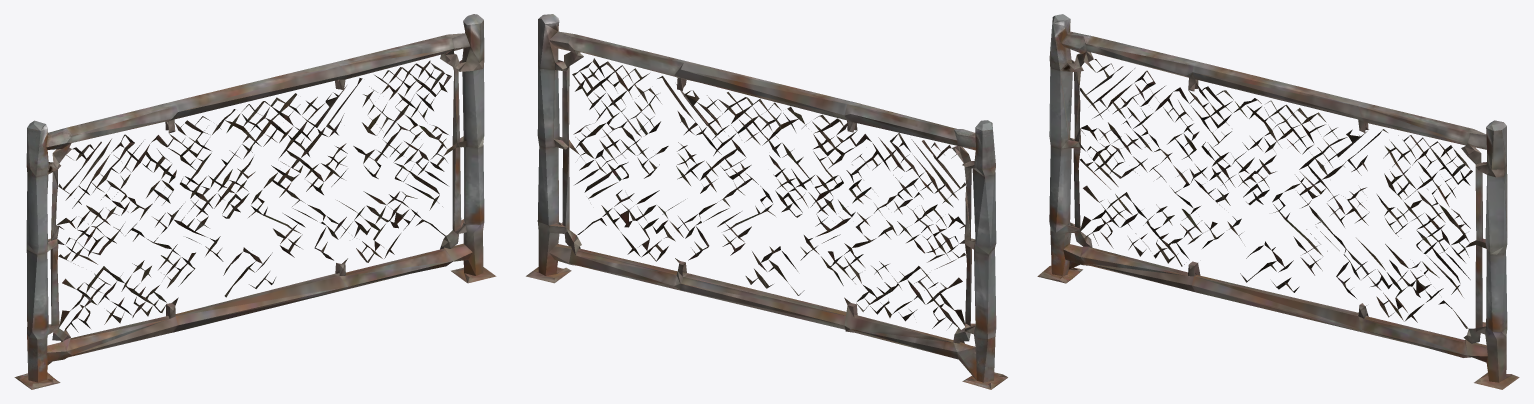
The model's file is fence_chainlink.glb.
3 renders of one model, left to right at view 1: azimuth 30°, elevation 25°; view 2: azimuth 150°, elevation 25°; view 3: azimuth 330°, elevation 25°, orthographic.
Parts seen in each view (by area): view 1: Mesh_0; view 2: Mesh_0; view 3: Mesh_0.
Boxes of the visible parts, x1,y1,x2,y2 form: Mesh_0: [14, 14, 496, 389]; Mesh_0: [526, 14, 1007, 389]; Mesh_0: [1037, 14, 1519, 389].
Bounding box in the file's own units: 1.9 × 1.01 × 0.1222.
Materials: 1 (1 with a texture image).
